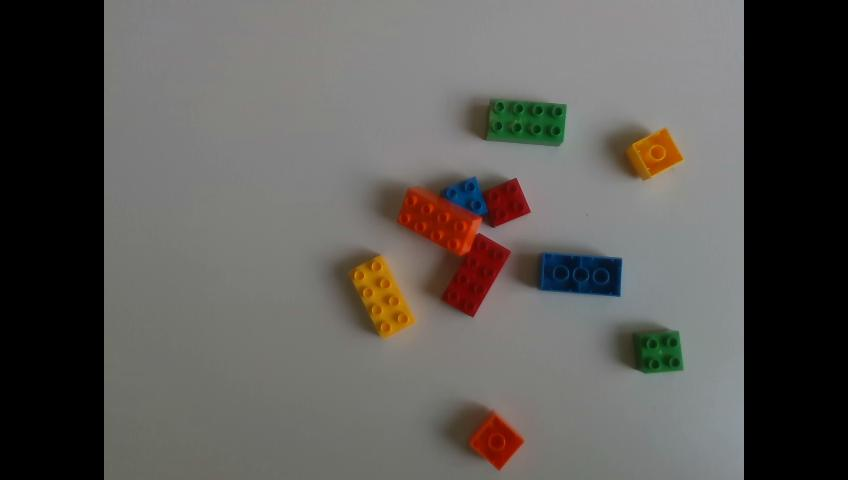2x2_blue: (443, 176, 487, 215)
2x2_green: (636, 330, 684, 375)
2x2_orange: (470, 411, 523, 468)
2x2_red: (483, 177, 530, 224)
2x2_yellow: (628, 126, 683, 179)
4x2_blue: (536, 251, 621, 298)
4x2_green: (490, 98, 566, 143)
4x2_orange: (400, 185, 481, 254)
4x2_red: (441, 234, 510, 315)
4x2_yellow: (351, 255, 415, 335)
